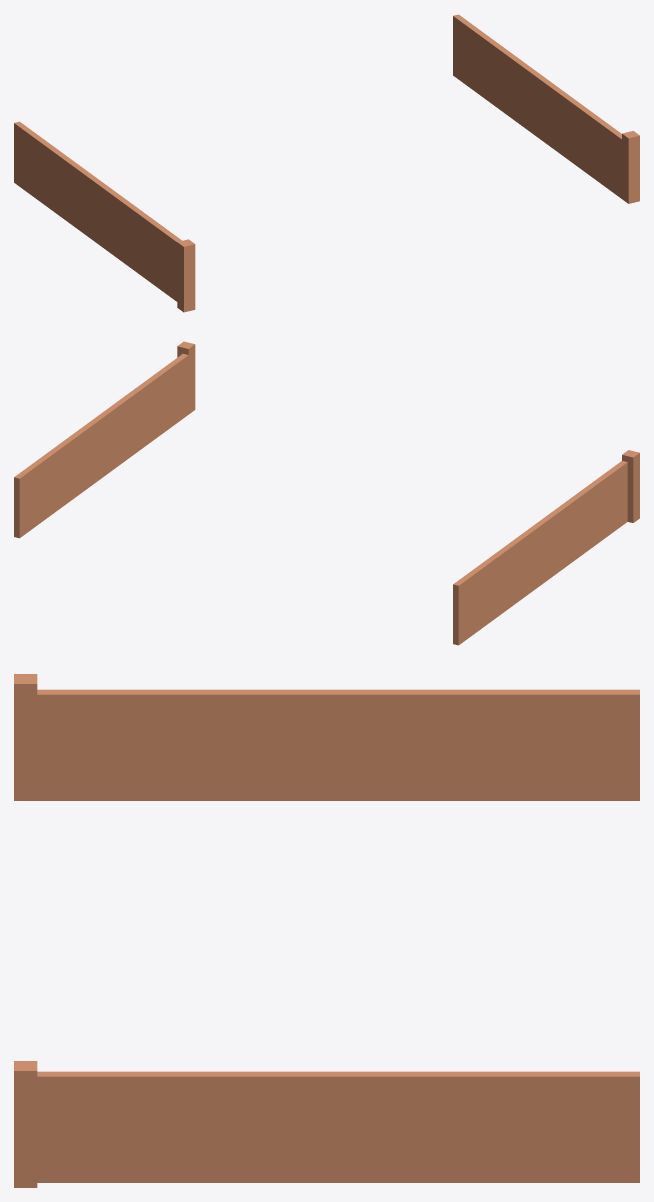
File: jardin_cerca_puerta.obj
3 renders of one model, top to bottom at view 1: azimuth 30°, elevation 25°; view 2: azimuth 150°, elevation 25°; view 3: azimuth 270°, elevation 25°, orthographic. The views are drawn at different scales.
Parts seen in each view (by area): view 1: jardin_cerca_puerta; view 2: jardin_cerca_puerta; view 3: jardin_cerca_puerta.
Boxes of the visible parts, box(x1,y1,x2,y2) form: jardin_cerca_puerta: box(14, 14, 639, 312); jardin_cerca_puerta: box(14, 341, 639, 645); jardin_cerca_puerta: box(14, 674, 639, 1187).
Bounding box in the file's own units: 1.2 × 0.165 × 0.8.
